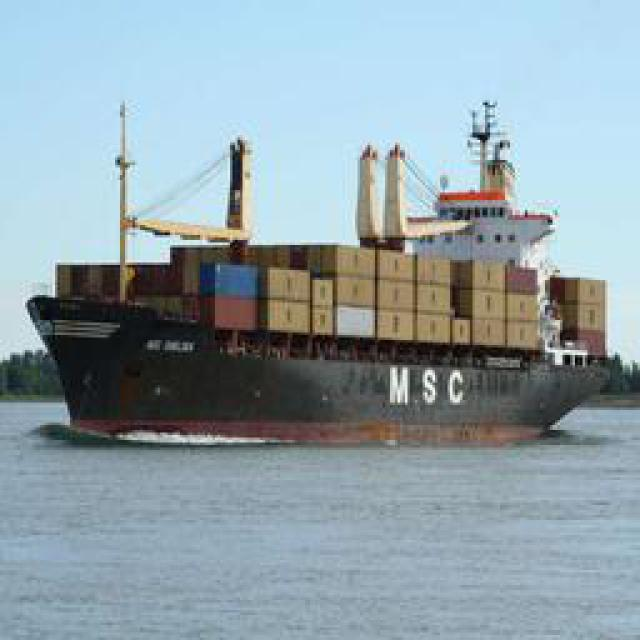Ship: (26, 95, 614, 440)
